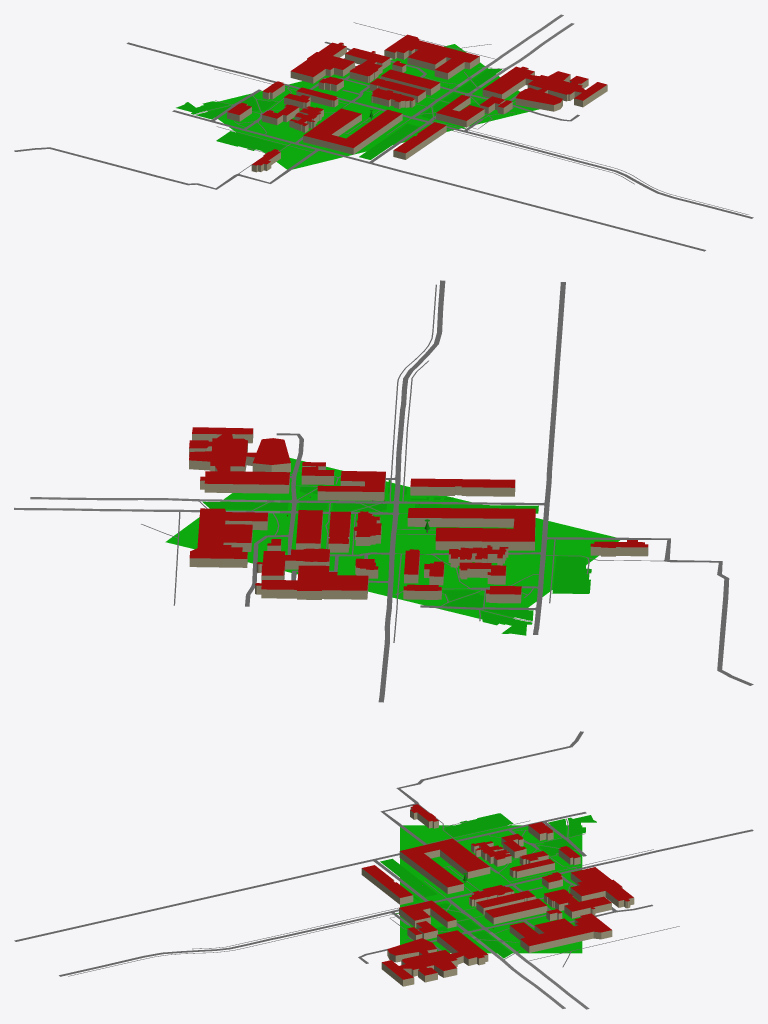
The model's file is ubc_ponderosa.dae.
3 views of the same model, one above another, from view 1: azimuth 30°, elevation 25°; view 2: azimuth 150°, elevation 25°; view 3: azimuth 270°, elevation 25° (orthographic). The views are drawn at different scales.
Parts seen in each view (by area): view 1: SurfaceArea282, Building_Neville_Scarfe_Building, Building_Henry_Angus_Building, Building_Leonard_S__Klinck_Building, Building_Ponderosa_Oak_House, Road_West_Mall, Road_Lower_Mall, Road_University_Boulevard, Building_Ponderosa_Cedar_House, Building_Power_House, Building_Maple_House, Road_Place_Vanier (+11 smaller); view 2: SurfaceArea282, Building_Neville_Scarfe_Building, Building_Henry_Angus_Building, Building_Leonard_S__Klinck_Building, Building_Ponderosa_Oak_House, Road_West_Mall, Building_Ponderosa_Cedar_House, Road_University_Boulevard, Road_Lower_Mall, Building_Maple_House, Building_Power_House, SurfaceArea281 (+10 smaller); view 3: SurfaceArea282, Building_Neville_Scarfe_Building, Building_Henry_Angus_Building, Building_Leonard_S__Klinck_Building, Road_West_Mall, Building_Ponderosa_Oak_House, Road_Lower_Mall, Road_University_Boulevard, Building_Ponderosa_Cedar_House, Building_Power_House, Building_Dorothy_Somerset_Studios, Building_Maple_House (+9 smaller).
Part boxes in pixels (bbox=[...]): SurfaceArea282: bbox=[200, 44, 539, 169]; Building_Neville_Scarfe_Building: bbox=[482, 66, 607, 107]; Building_Henry_Angus_Building: bbox=[384, 34, 479, 79]; Building_Leonard_S__Klinck_Building: bbox=[290, 42, 354, 83]; Building_Ponderosa_Oak_House: bbox=[323, 109, 402, 154]; Road_West_Mall: bbox=[126, 42, 753, 218]; Road_Lower_Mall: bbox=[172, 110, 705, 251]; Road_University_Boulevard: bbox=[370, 14, 574, 162]; Building_Ponderosa_Cedar_House: bbox=[303, 108, 361, 146]; Building_Power_House: bbox=[345, 48, 390, 82]; Building_Maple_House: bbox=[393, 122, 446, 159]; Road_Place_Vanier: bbox=[14, 147, 317, 189]; SurfaceArea282: bbox=[165, 458, 619, 624]; Building_Neville_Scarfe_Building: bbox=[189, 427, 289, 493]; Building_Henry_Angus_Building: bbox=[189, 508, 268, 567]; Building_Leonard_S__Klinck_Building: bbox=[255, 565, 368, 599]; Building_Ponderosa_Oak_House: bbox=[407, 508, 535, 535]; Road_West_Mall: bbox=[378, 280, 445, 702]; Building_Ponderosa_Cedar_House: bbox=[435, 527, 534, 550]; Road_University_Boulevard: bbox=[14, 497, 543, 514]; Road_Lower_Mall: bbox=[533, 282, 565, 634]; Building_Maple_House: bbox=[410, 478, 515, 496]; Building_Power_House: bbox=[256, 548, 329, 582]; SurfaceArea281: bbox=[552, 556, 591, 593]; SurfaceArea282: bbox=[400, 825, 582, 953]; Building_Neville_Scarfe_Building: bbox=[381, 930, 488, 986]; Building_Henry_Angus_Building: bbox=[509, 913, 612, 952]; Building_Leonard_S__Klinck_Building: bbox=[570, 867, 634, 908]; Road_West_Mall: bbox=[59, 829, 753, 976]; Building_Ponderosa_Oak_House: bbox=[399, 843, 463, 894]; Road_Lower_Mall: bbox=[14, 812, 586, 941]; Road_University_Boulevard: bbox=[374, 860, 589, 1009]; Building_Ponderosa_Cedar_House: bbox=[432, 838, 490, 878]; Building_Power_House: bbox=[544, 889, 611, 918]; Building_Dorothy_Somerset_Studios: bbox=[484, 898, 547, 924]; Building_Maple_House: bbox=[361, 865, 413, 904].
Bounding box in the file's own units: 651 × 731 × 10.
